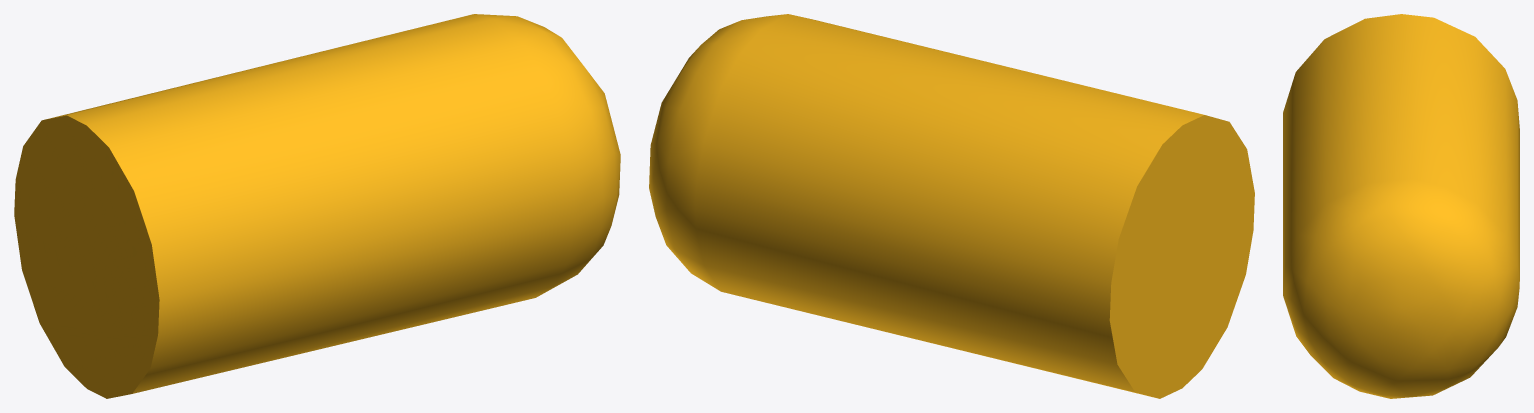
The model's file is cannon_projectile.fbx.
3 renders of one model, left to right at view 1: azimuth 30°, elevation 25°; view 2: azimuth 150°, elevation 25°; view 3: azimuth 270°, elevation 25°, orthographic. The views are drawn at different scales.
Parts seen in each view (by area): view 1: projectile; view 2: projectile; view 3: projectile.
Part boxes in pixels (x1=…): projectile: x1=14, y1=14, x2=620, y2=398; projectile: x1=649, y1=14, x2=1254, y2=398; projectile: x1=1283, y1=14, x2=1519, y2=398.
Bounding box in the file's own units: 80.67 × 40 × 40.04.
